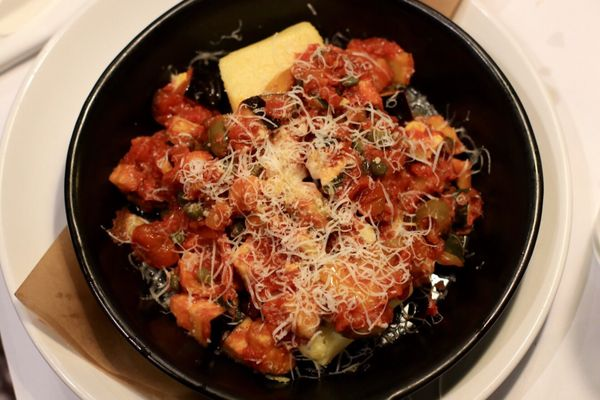sushi: (38, 5, 550, 393)
